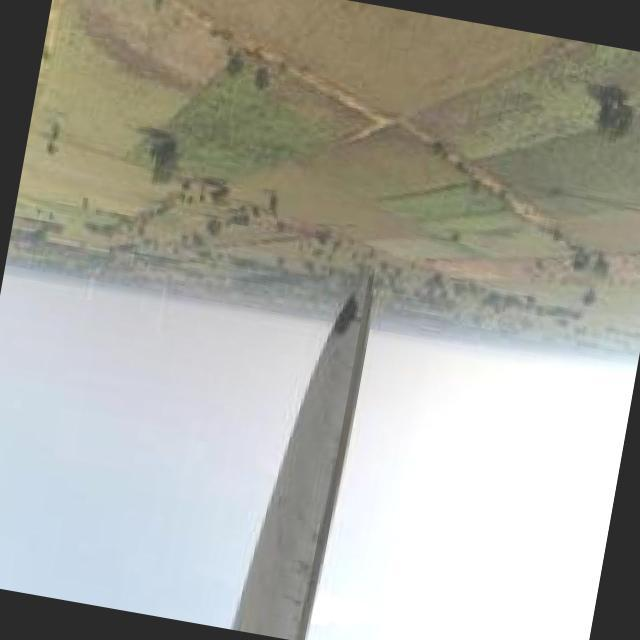Dirt: (251, 278, 370, 638)
Oil LEAKAGE: (328, 292, 369, 334)
